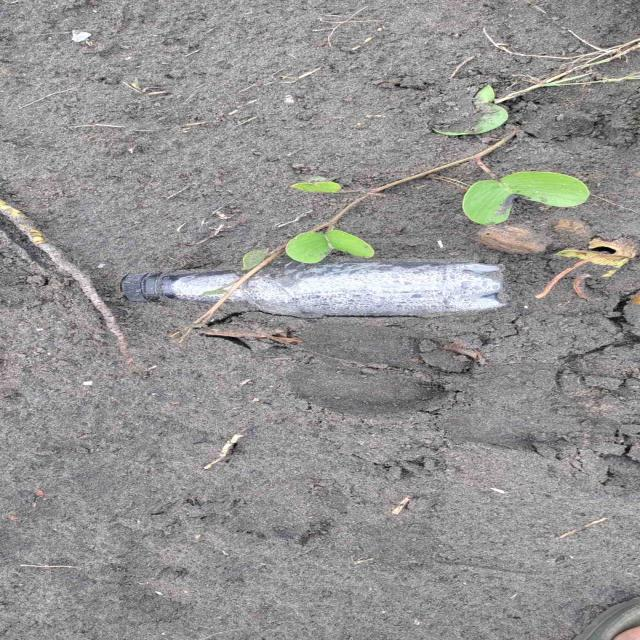glass: (228, 262, 505, 318), (120, 271, 238, 302)
